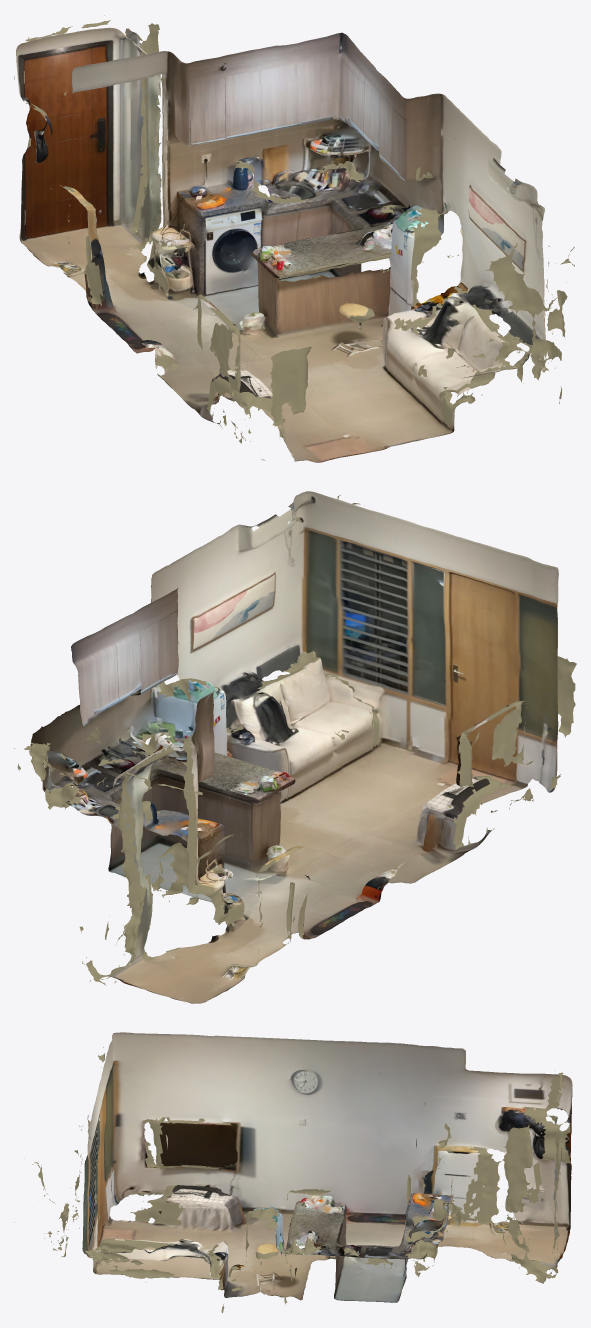
The model's file is room.glb.
3 views of the same model, one above another, from view 1: azimuth 30°, elevation 25°; view 2: azimuth 150°, elevation 25°; view 3: azimuth 270°, elevation 25° (orthographic). The views are drawn at different scales.
Parts seen in each view (by area): view 1: scandesigner; view 2: scandesigner; view 3: scandesigner.
Boxes of the visible parts, box(x1,y1,x2,y2) form: scandesigner: box(14, 15, 574, 462); scandesigner: box(14, 491, 576, 1003); scandesigner: box(14, 1032, 572, 1313).
Size of the model in its own units: 3.67 by 2.71 by 7.28.
7 materials, 7 textured.
